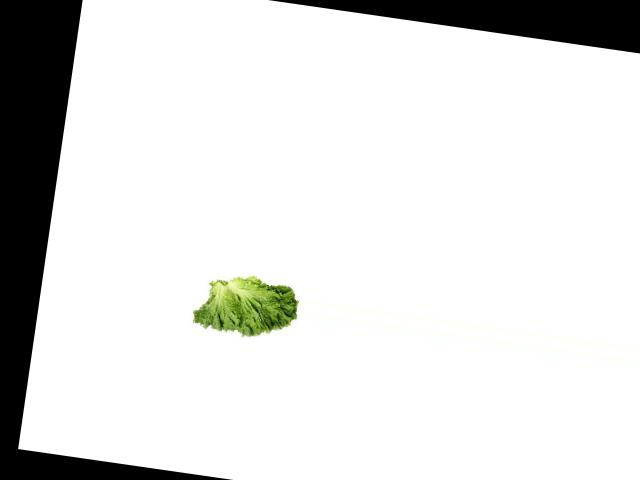lettuce: (190, 265, 303, 350)
